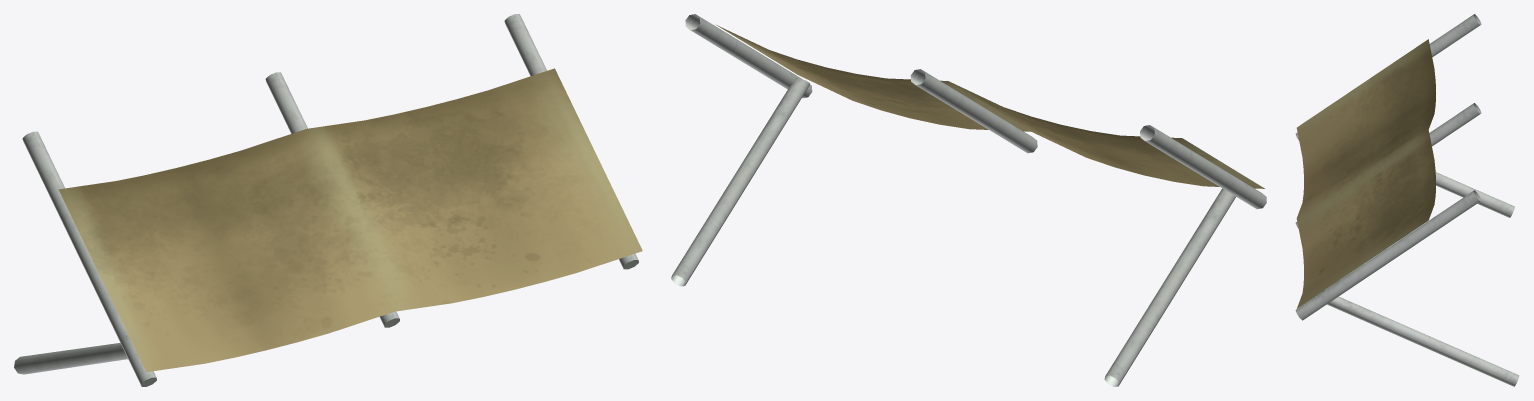
Rendered from Hut.fbx.
3 views of the same model, side by side, from view 1: azimuth 30°, elevation 25°; view 2: azimuth 150°, elevation 25°; view 3: azimuth 270°, elevation 25° (orthographic). The views are drawn at different scales.
Parts seen in each view (by area): view 1: pPlane1, sweep22, sweep20, sweep21, sweep23; view 2: pPlane1, sweep19, sweep20, sweep21, sweep22, sweep23; view 3: pPlane1, sweep23, sweep19, sweep20, sweep21, sweep22.
Part boxes in pixels (box(x1,y1,x2,y2)): pPlane1: box(58, 68, 642, 372); sweep22: box(22, 131, 156, 386); sweep20: box(14, 343, 127, 374); sweep21: box(265, 72, 399, 327); sweep23: box(504, 14, 638, 269); pPlane1: box(716, 25, 1264, 188); sweep19: box(671, 78, 809, 286); sweep20: box(1104, 188, 1235, 386); sweep21: box(910, 69, 1037, 153); sweep22: box(1140, 125, 1266, 209); sweep23: box(685, 14, 812, 98); pPlane1: box(1296, 39, 1436, 308); sweep23: box(1295, 190, 1481, 320); sweep19: box(1318, 290, 1519, 386); sweep20: box(1435, 172, 1514, 217); sweep21: box(1295, 103, 1481, 228); sweep22: box(1295, 14, 1481, 140).
Size of the model in its own units: 302 by 154 by 156.
